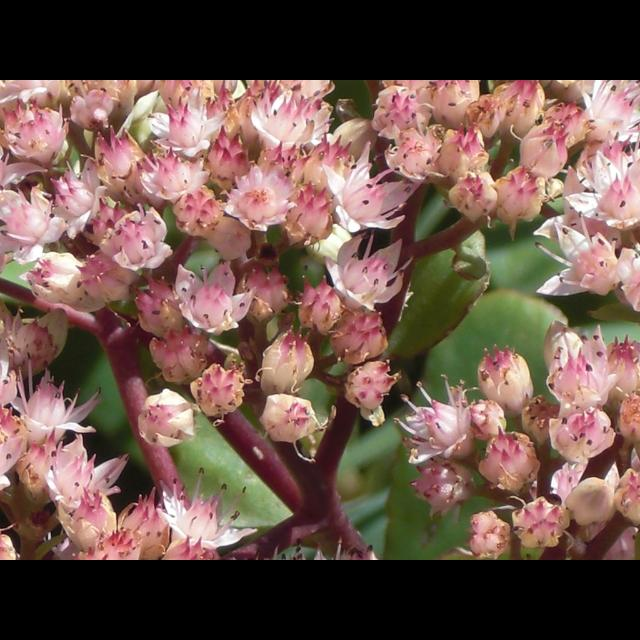Flower: (0, 80, 638, 560), (393, 323, 639, 559), (187, 362, 241, 420)
